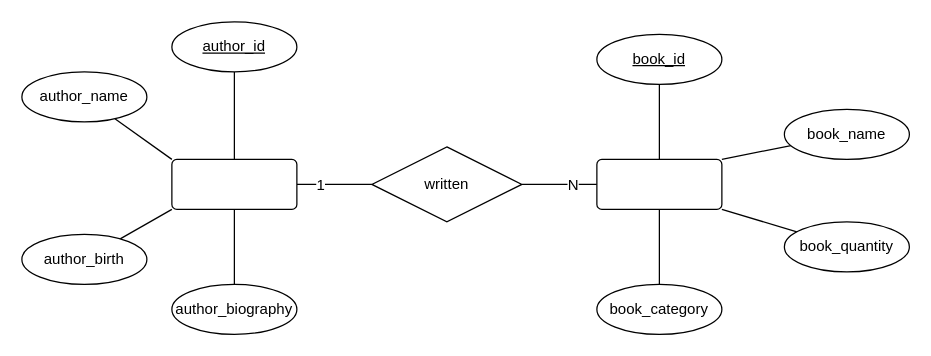
Some shapes in this 931 by 356 pixel diagram are drawn without their labels. Each missing label, with the centre of its shape:
AUTHORS: pixel 234 183
BOOKS: pixel 659 183
